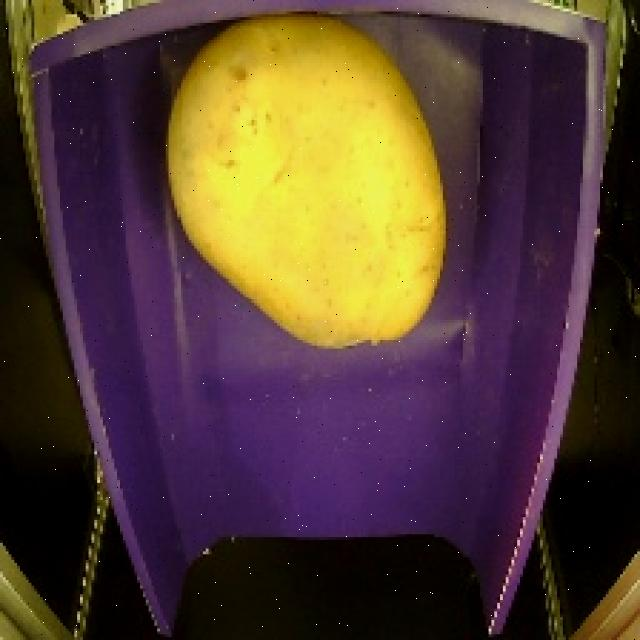full_potato: (154, 7, 459, 361)
